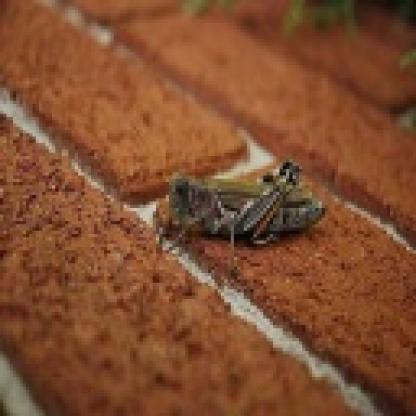grasshopper: (136, 165, 320, 240)
